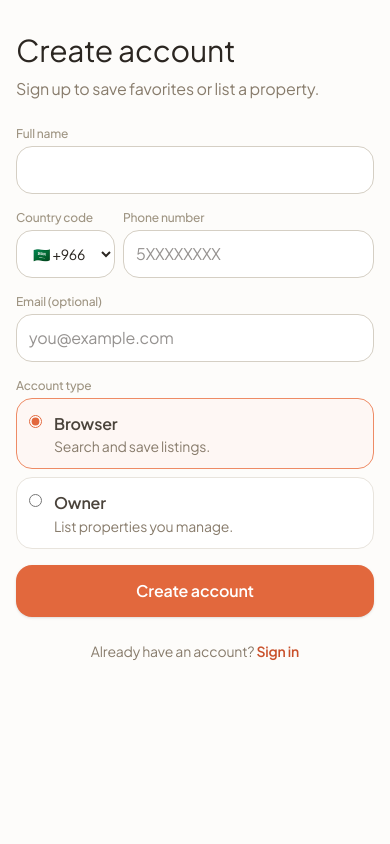
Test: RegisterPage › shows a validation error and does not submit when the full name is empty
Type "500000000" into the field labelled "Phone number" at point(248, 254), box 123,230 -> 374,278
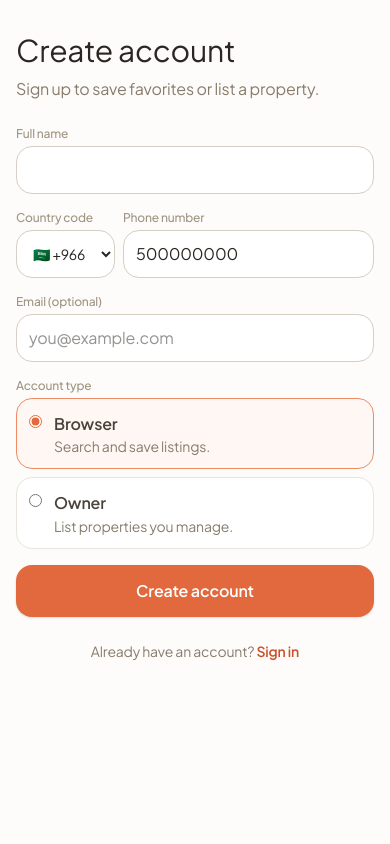
Click the button "Create account" at point(195, 591), box 16,565 -> 374,617
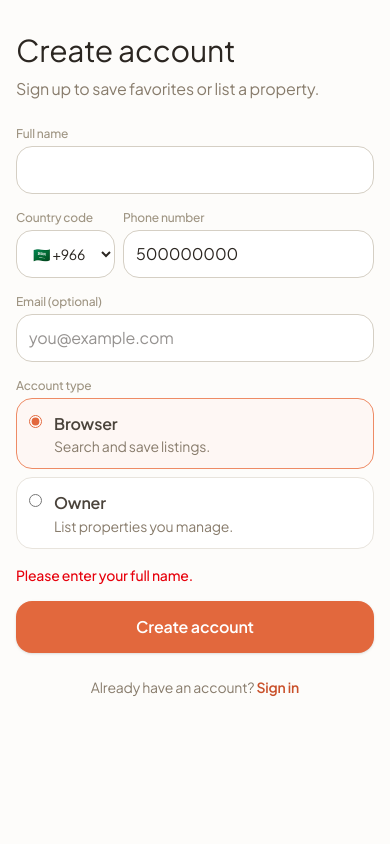
Expected: the message shows "name", 16,566 -> 193,584
